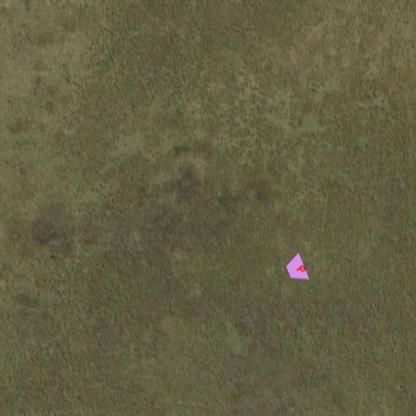P: (296, 264, 307, 274)
trapezium: (284, 250, 310, 283)
